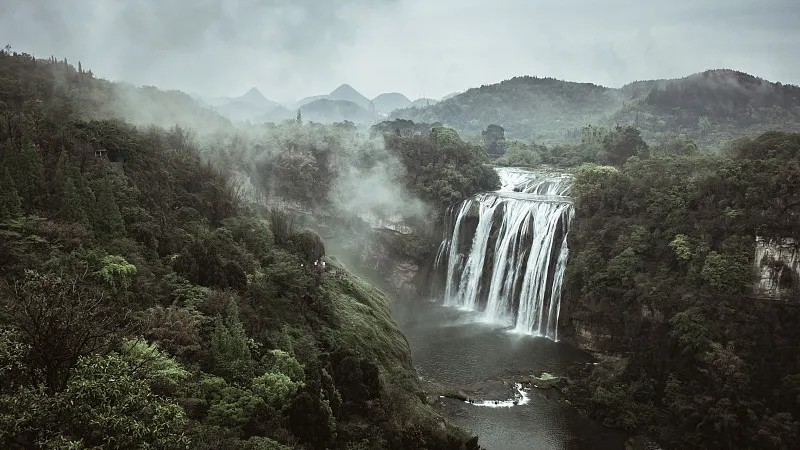Huangguoshu: (439, 164, 575, 340)
